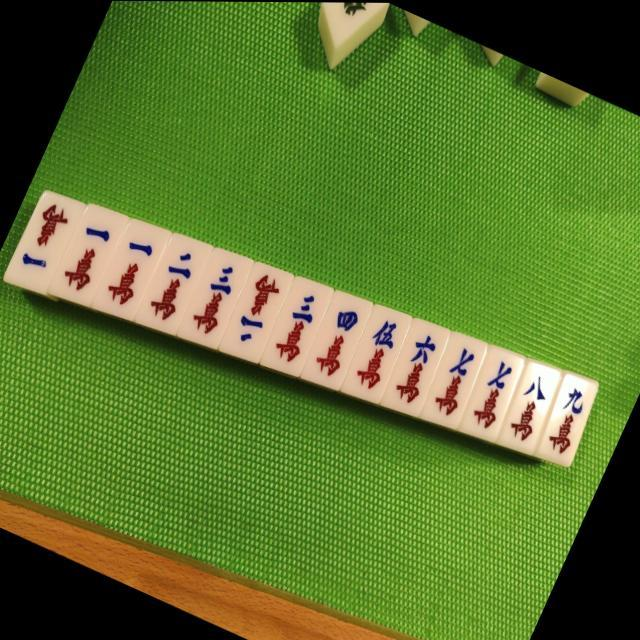sc1: (10, 194, 77, 284), (100, 227, 162, 314), (53, 216, 117, 300)
sc2: (138, 238, 206, 330), (222, 266, 288, 356)
sc3: (262, 278, 331, 372), (180, 253, 248, 344)
sc4: (302, 296, 370, 384)
sc5: (342, 306, 412, 399)
sc6: (384, 322, 449, 409)
sc7: (458, 351, 520, 437), (422, 337, 484, 423)
sc8: (496, 363, 562, 453)
sc9: (538, 377, 597, 456)
